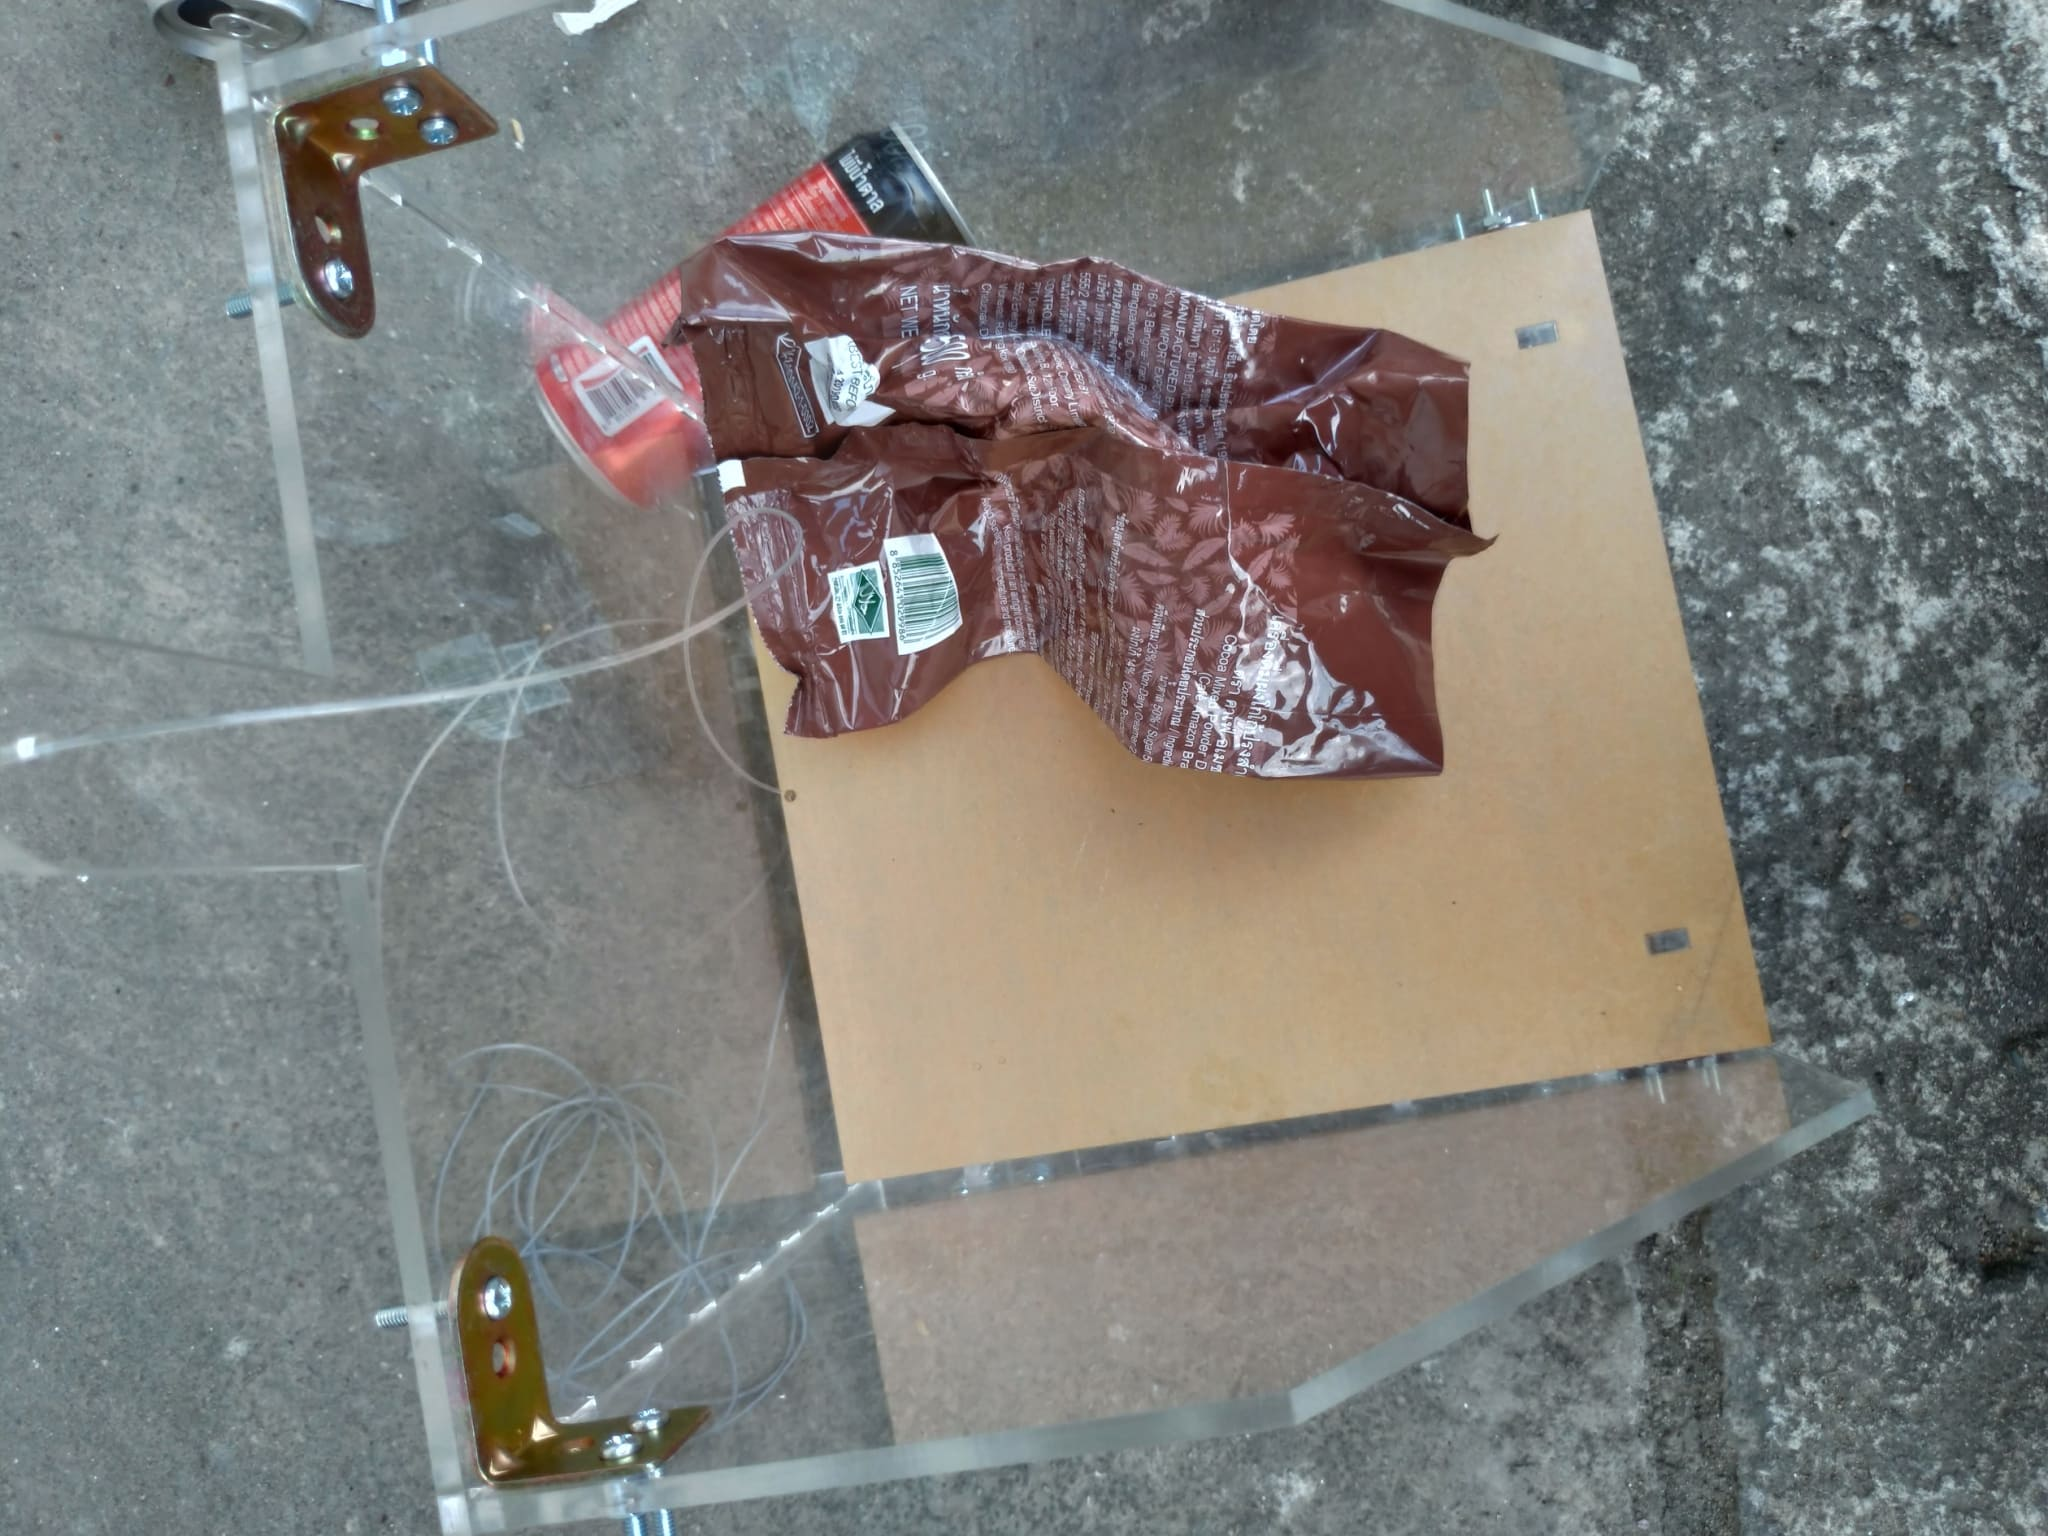AlCan: (540, 132, 989, 474)
Others: (676, 242, 1484, 791)
